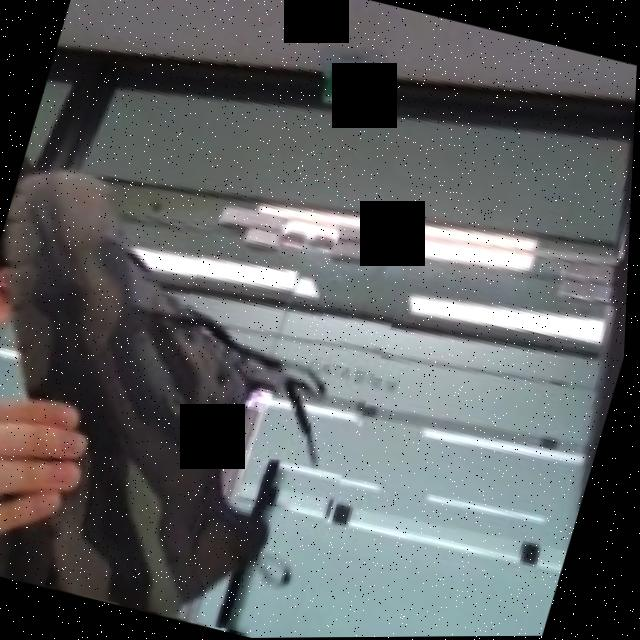shoe: (0, 152, 421, 640)
